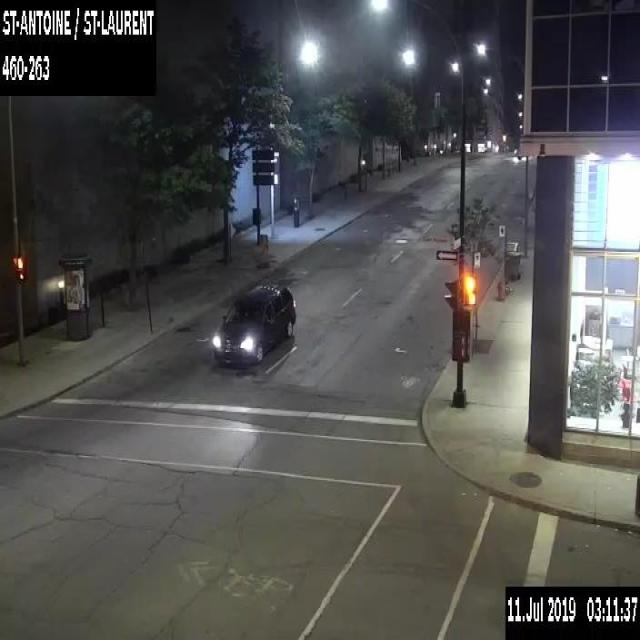vehicle: (211, 279, 295, 369)
